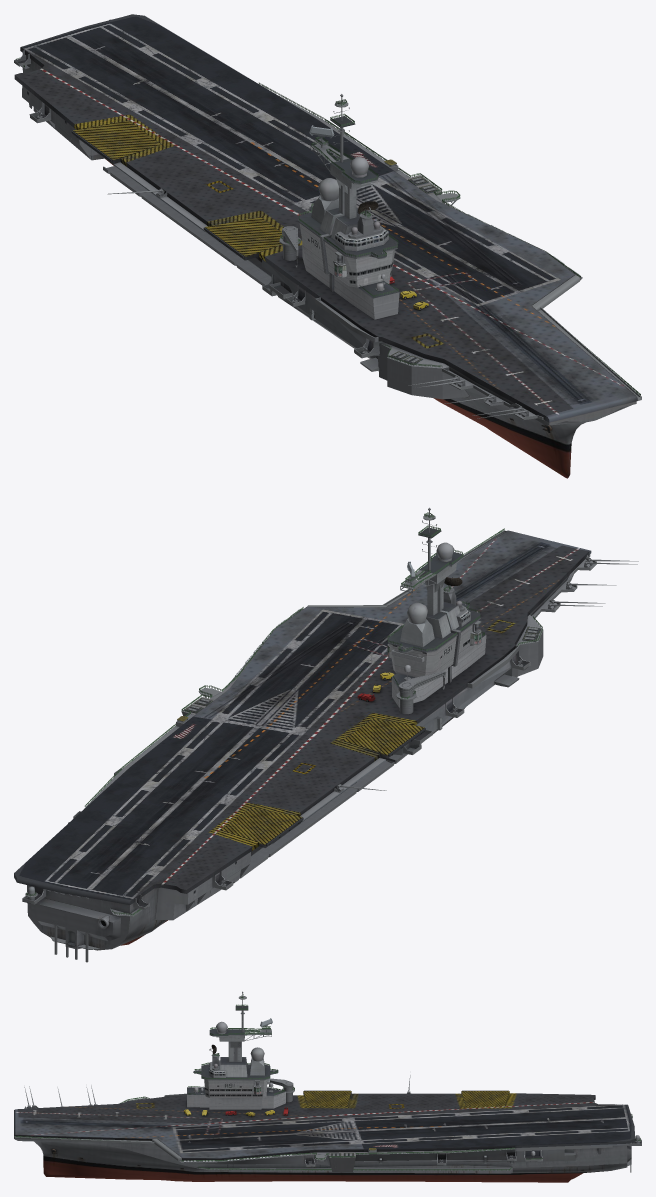
File: charles_de_gaulle_aircraft_carrier-maximum-compressed.glb
3 renders of one model, top to bottom at view 1: azimuth 30°, elevation 25°; view 2: azimuth 150°, elevation 25°; view 3: azimuth 270°, elevation 25°, orthographic. The views are drawn at different scales.
Parts seen in each view (by area): view 1: skfb_offset; view 2: skfb_offset; view 3: skfb_offset.
Part boxes in pixels (x1,y1,x2,y2): skfb_offset: (14,14,641,478); skfb_offset: (14,507,638,962); skfb_offset: (14,991,641,1182).
Size of the model in its own units: 17285 by 16753 by 55166.
3 materials, 3 textured.
